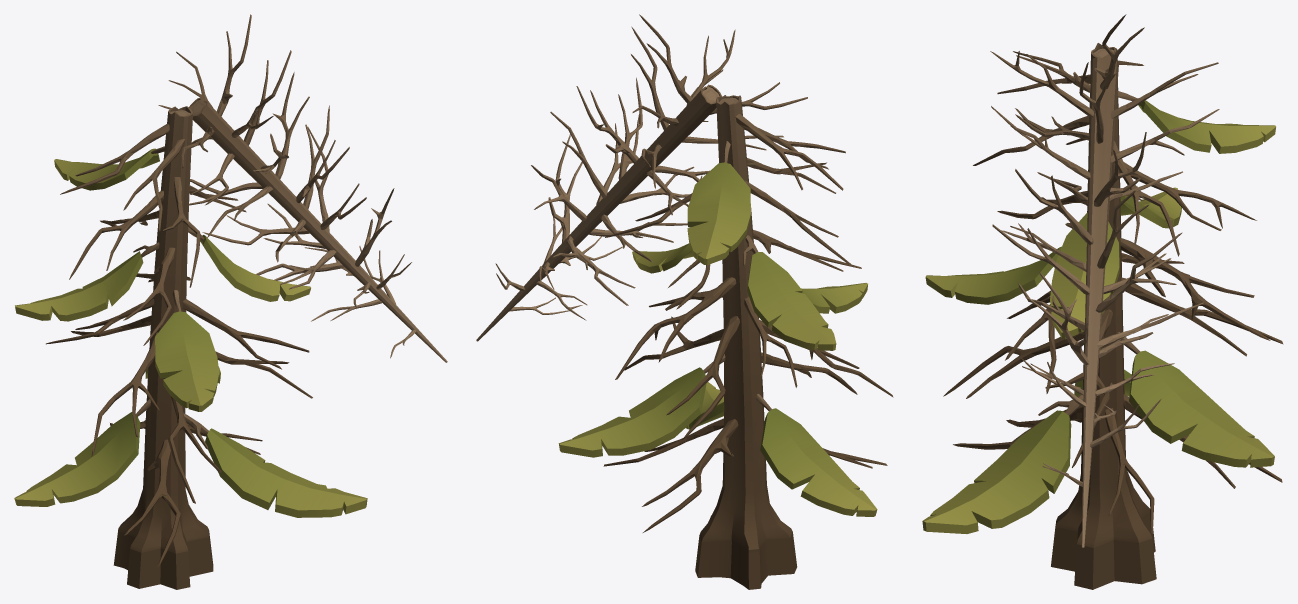
Rendered from Tree_06.fbx.
The picture shows the model from 3 angles, left to right: view 1: azimuth 30°, elevation 25°; view 2: azimuth 150°, elevation 25°; view 3: azimuth 270°, elevation 25°; orthographic projection. The views are drawn at different scales.
Parts seen in each view (by area): view 1: Tree_06_LOD0; view 2: Tree_06_LOD0; view 3: Tree_06_LOD0.
Part boxes in pixels (left/top/right/bottom): Tree_06_LOD0: left=14, top=14, right=447, bottom=589; Tree_06_LOD0: left=476, top=14, right=893, bottom=589; Tree_06_LOD0: left=922, top=14, right=1283, bottom=589.
Size of what is drawn, in the model's own units: 3.82 by 4.66 by 2.52.
